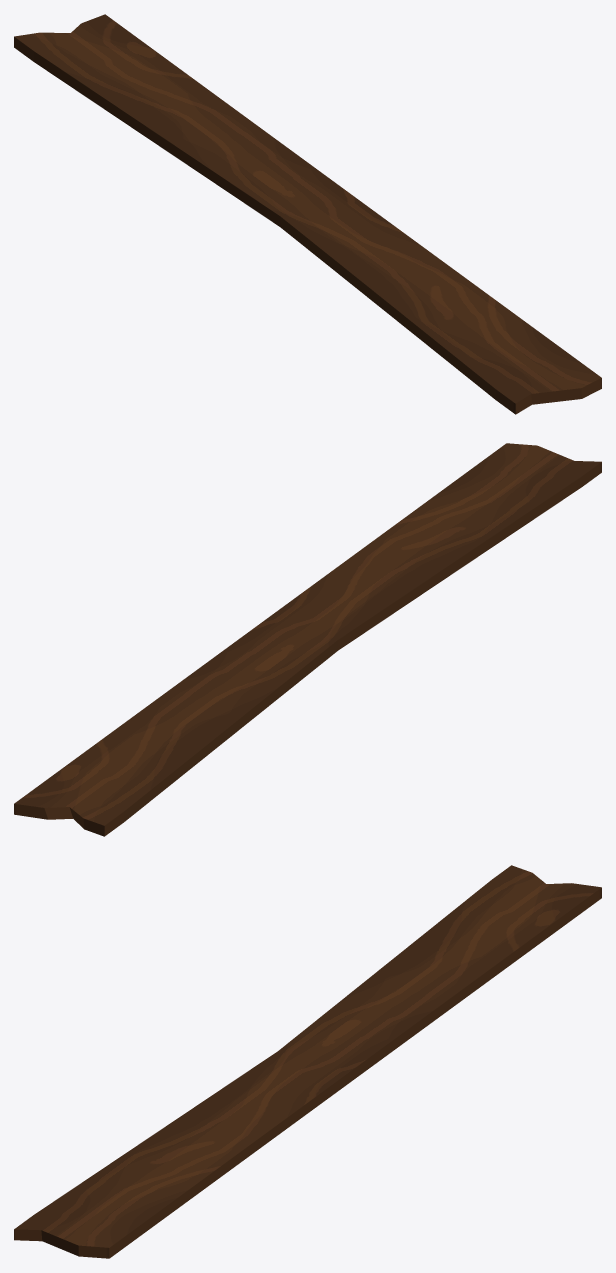
File: FloorBoard-2.fbx
3 renders of one model, top to bottom at view 1: azimuth 30°, elevation 25°; view 2: azimuth 150°, elevation 25°; view 3: azimuth 330°, elevation 25°, orthographic.
Visible parts, largest first — view 1: FloorBoard-2; view 2: FloorBoard-2; view 3: FloorBoard-2.
Part boxes in pixels (box(x1,y1,x2,y2)): FloorBoard-2: box(14, 14, 601, 414); FloorBoard-2: box(14, 443, 601, 836); FloorBoard-2: box(14, 865, 601, 1258).
Size of the model in its own units: 200 by 22.92 by 1906.
1 material, 1 textured.
